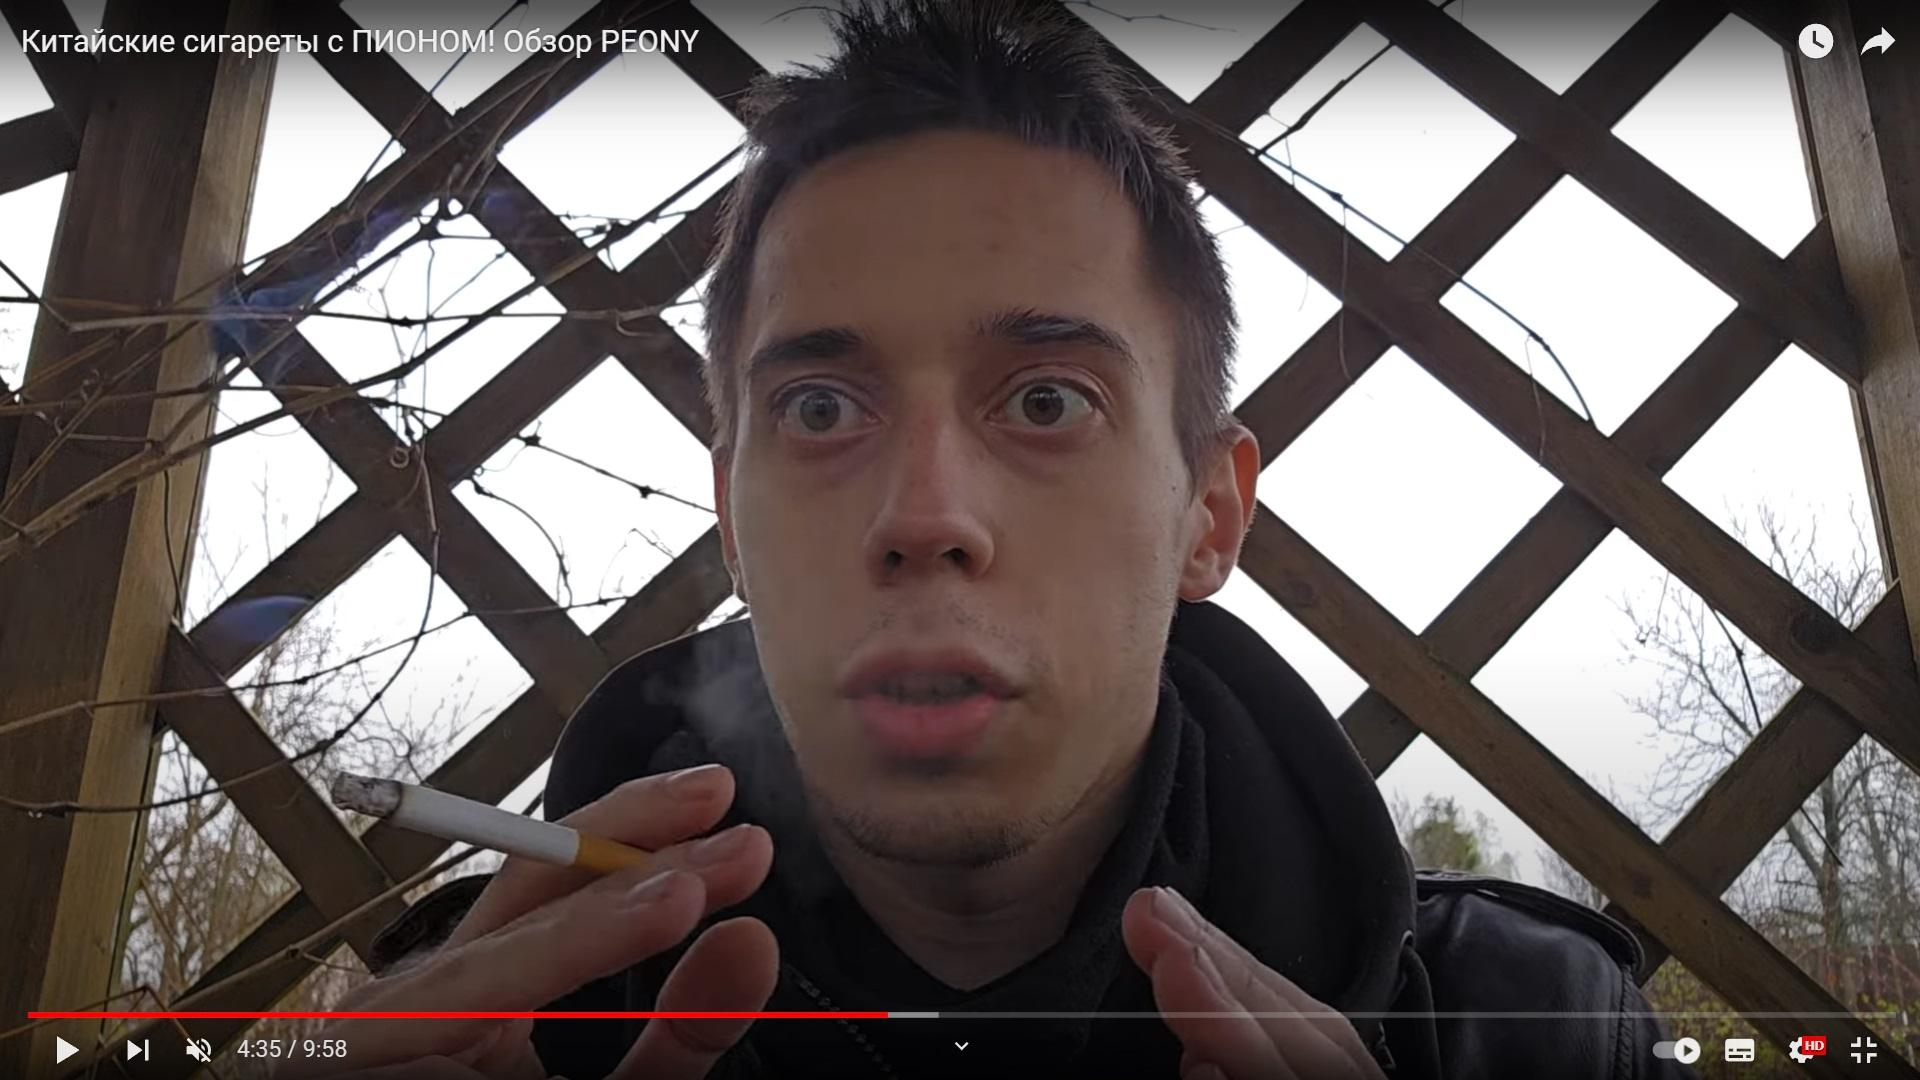cigarette: (330, 773, 645, 874)
